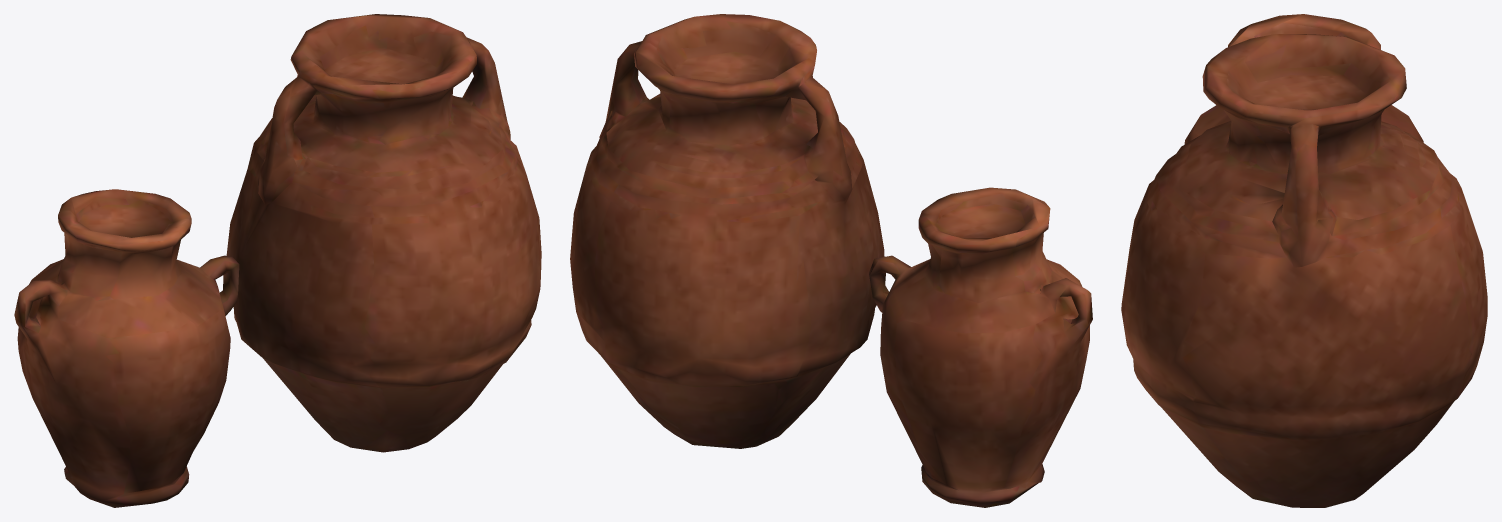
File: worn-terracotta-amphora-v001.glb
3 renders of one model, left to right at view 1: azimuth 30°, elevation 25°; view 2: azimuth 150°, elevation 25°; view 3: azimuth 270°, elevation 25°, orthographic. The views are drawn at different scales.
Parts seen in each view (by area): view 1: worn-terracotta-amphora; view 2: worn-terracotta-amphora; view 3: worn-terracotta-amphora.
Boxes of the visible parts, x1,y1,x2,y2 form: worn-terracotta-amphora: [14, 14, 541, 507]; worn-terracotta-amphora: [570, 14, 1092, 507]; worn-terracotta-amphora: [1121, 14, 1487, 507].
Size of the model in its own units: 1.05 by 0.7586 by 0.6067.
1 material, 1 textured.
